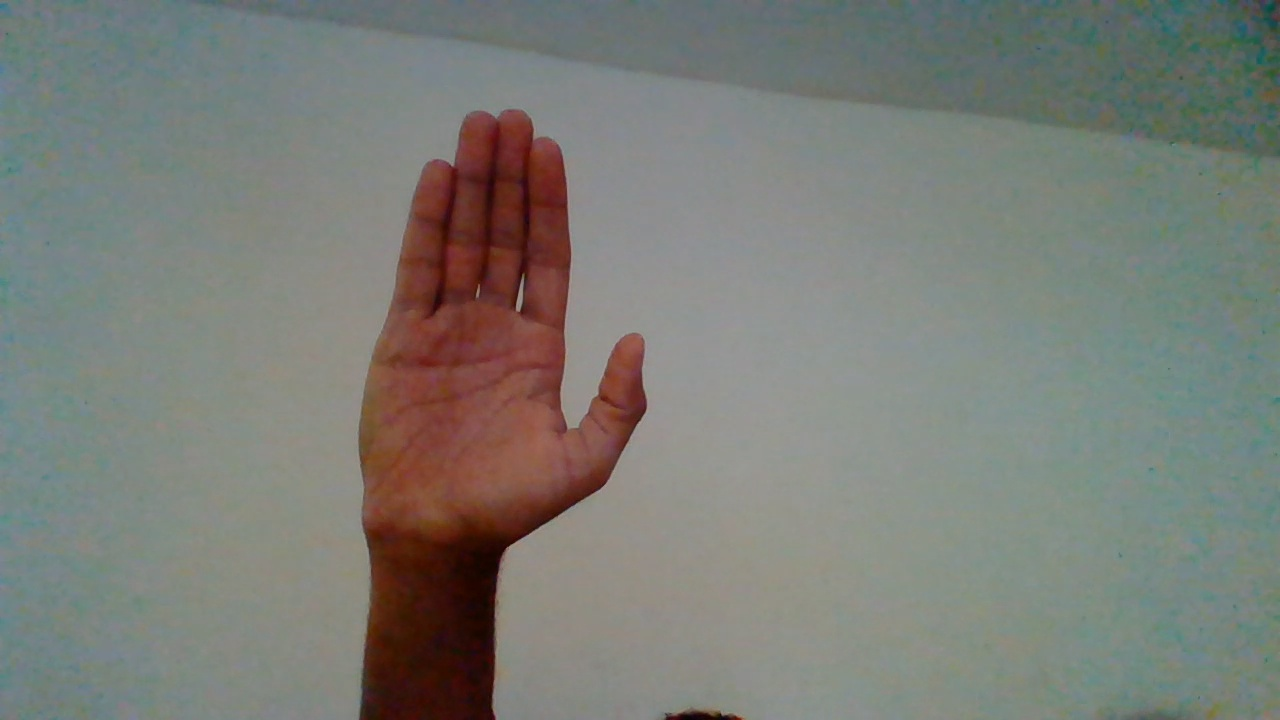ha: (367, 105, 653, 627)
